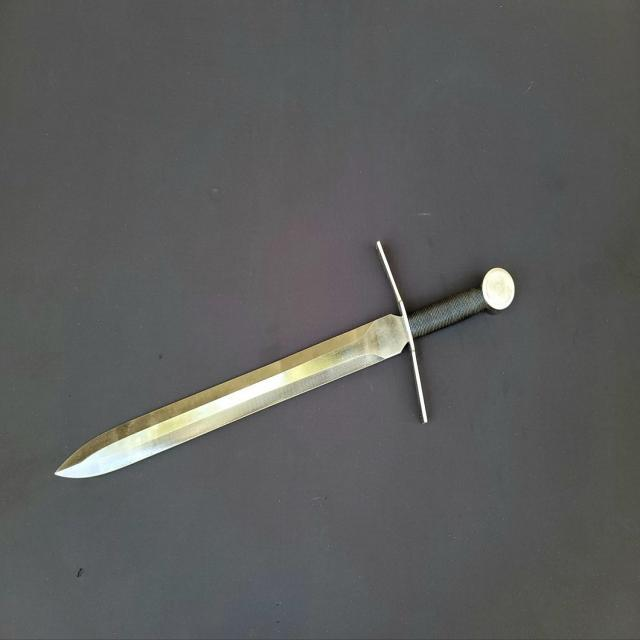short sword: (36, 193, 556, 524)
